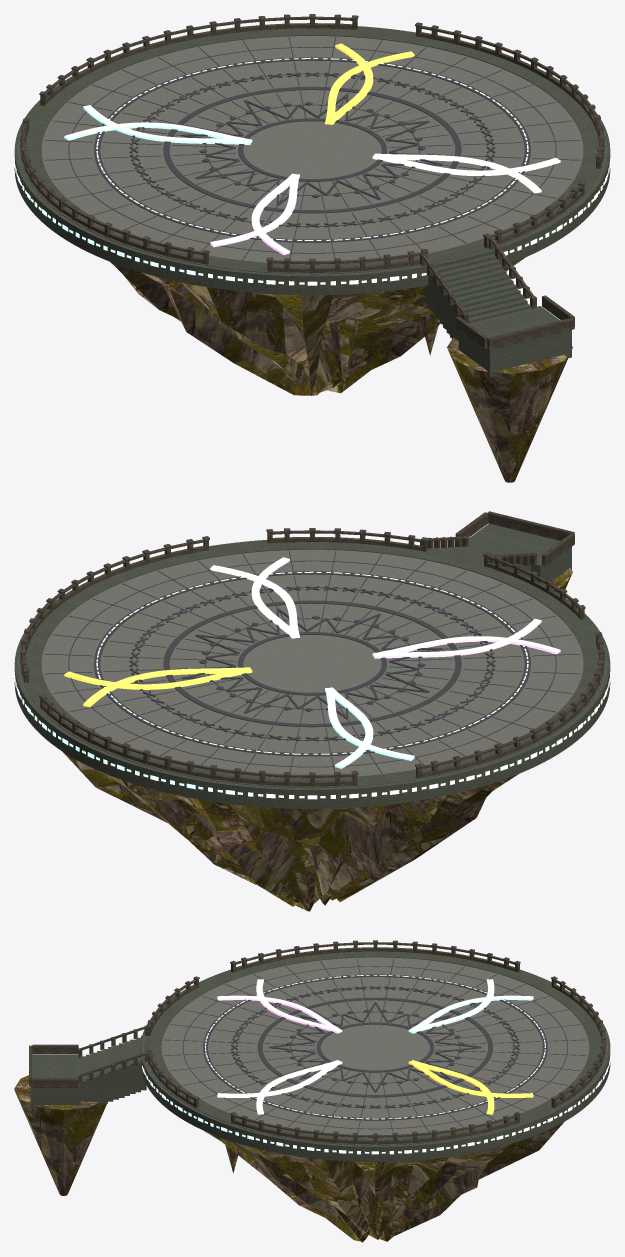
Rendered from temple_platform.gltf.
The picture shows the model from 3 angles, top to bottom: view 1: azimuth 30°, elevation 25°; view 2: azimuth 150°, elevation 25°; view 3: azimuth 270°, elevation 25°; orthographic projection. The views are drawn at different scales.
Parts seen in each view (by area): view 1: Platform_Floor, Platform_Rim, Platform_Underside, Platform_Seams, Platform_Balustrade, Stairs_Steps, Stairs_Rock, Platform_Carving, Stairs_Rails, Conduit_wind, Conduit_ice, Conduit_fire (+3 smaller); view 2: Platform_Floor, Platform_Rim, Platform_Underside, Platform_Seams, Platform_Balustrade, Platform_Carving, Stairs_Steps, Stairs_Rails, Conduit_fire, Conduit_thunder, Platform_RimRunes, Conduit_wind (+2 smaller); view 3: Platform_Floor, Platform_Rim, Platform_Underside, Platform_Seams, Platform_Balustrade, Stairs_Steps, Stairs_Rock, Platform_Carving, Stairs_Rails, Conduit_wind, Conduit_fire, Conduit_thunder (+3 smaller).
Boxes of the visible parts, <box> form: Platform_Floor: <box>18,36,606,274</box>; Platform_Rim: <box>14,26,610,295</box>; Platform_Underside: <box>110,257,525,395</box>; Platform_Seams: <box>44,37,580,260</box>; Platform_Balustrade: <box>20,14,604,272</box>; Stairs_Steps: <box>425,251,571,377</box>; Stairs_Rock: <box>447,337,572,482</box>; Platform_Carving: <box>129,72,495,227</box>; Stairs_Rails: <box>420,236,574,349</box>; Conduit_wind: <box>64,105,252,144</box>; Conduit_ice: <box>372,153,560,193</box>; Conduit_fire: <box>325,43,414,124</box>; Platform_Floor: <box>18,549,606,788</box>; Platform_Rim: <box>14,540,610,808</box>; Platform_Underside: <box>62,751,518,911</box>; Platform_Seams: <box>45,550,579,773</box>; Platform_Balustrade: <box>20,528,604,786</box>; Platform_Carving: <box>129,586,495,741</box>; Stairs_Steps: <box>429,523,571,585</box>; Stairs_Rails: <box>420,511,574,566</box>; Conduit_fire: <box>64,667,252,707</box>; Conduit_thunder: <box>372,618,560,658</box>; Platform_RimRunes: <box>14,661,610,799</box>; Conduit_wind: <box>325,687,414,768</box>; Platform_Floor: <box>143,957,607,1145</box>; Platform_Rim: <box>140,951,610,1161</box>; Platform_Underside: <box>204,1122,563,1242</box>; Platform_Seams: <box>164,958,586,1132</box>; Platform_Balustrade: <box>146,940,606,1144</box>; Stairs_Steps: <box>30,1035,146,1108</box>; Stairs_Rock: <box>14,1075,106,1195</box>; Platform_Carving: <box>231,986,519,1108</box>; Stairs_Rails: <box>29,1025,148,1087</box>; Conduit_wind: <box>408,979,533,1033</box>; Conduit_fire: <box>408,1060,533,1114</box>; Conduit_thunder: <box>217,979,342,1033</box>.
Size of what is drawn, in the model's own units: 56.84 by 26.26 by 72.02.
11 materials, 4 textured.
